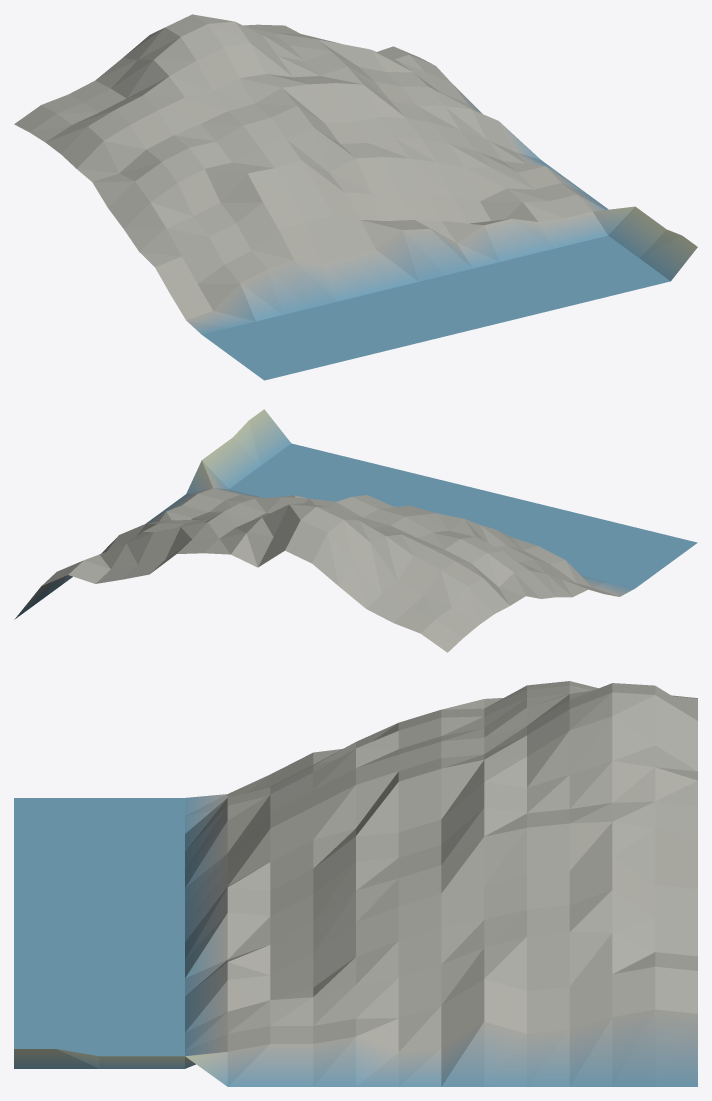
3 views of the same model, one above another, from view 1: azimuth 30°, elevation 25°; view 2: azimuth 150°, elevation 25°; view 3: azimuth 270°, elevation 25° (orthographic). The views are drawn at different scales.
Bounding box in the file's own units: 32 × 11.04 × 32.
